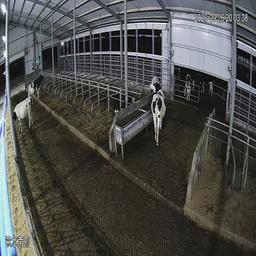cow: (148, 88, 167, 146), (10, 96, 32, 132), (26, 72, 45, 108), (109, 92, 134, 115), (194, 70, 215, 97), (181, 71, 192, 101), (150, 76, 163, 99)
